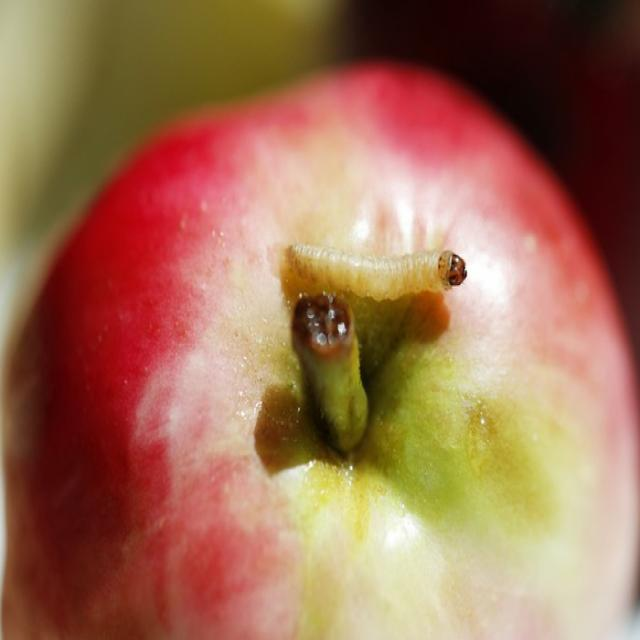worm: (283, 215, 476, 313)
